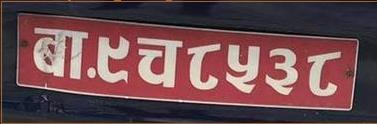3: (263, 45, 299, 96)
5: (223, 42, 262, 94)
8: (302, 48, 343, 99), (185, 42, 222, 92)
9: (96, 29, 131, 86)
ba: (27, 25, 89, 88)
cha: (134, 34, 184, 91)
